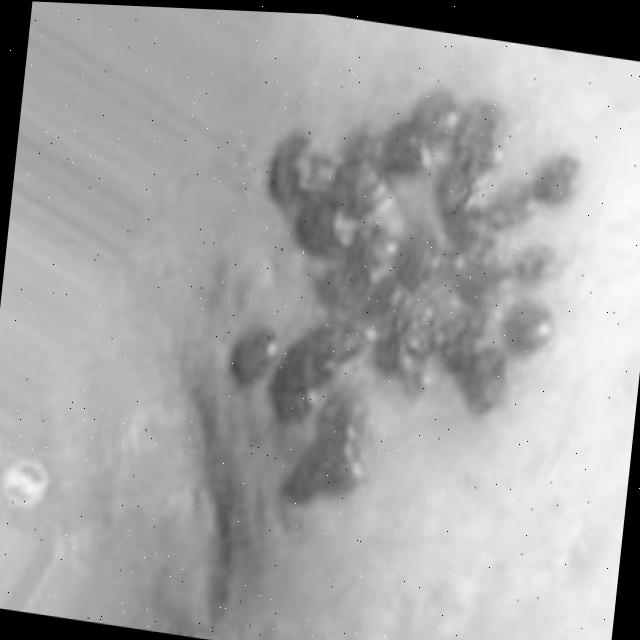Shingles: (212, 63, 605, 549)
